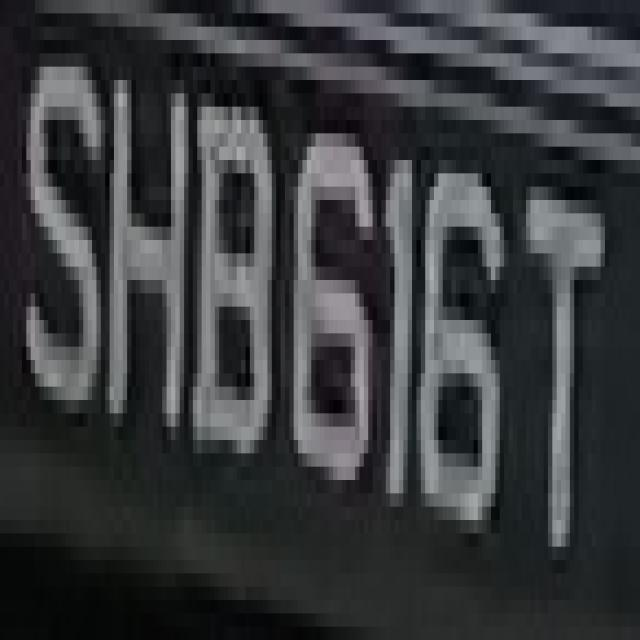1: (377, 133, 421, 560)
6: (285, 93, 381, 520), (416, 120, 508, 560)
B: (189, 54, 276, 494)
H: (101, 14, 188, 454)
S: (26, 14, 101, 414)
T: (504, 120, 605, 547)
